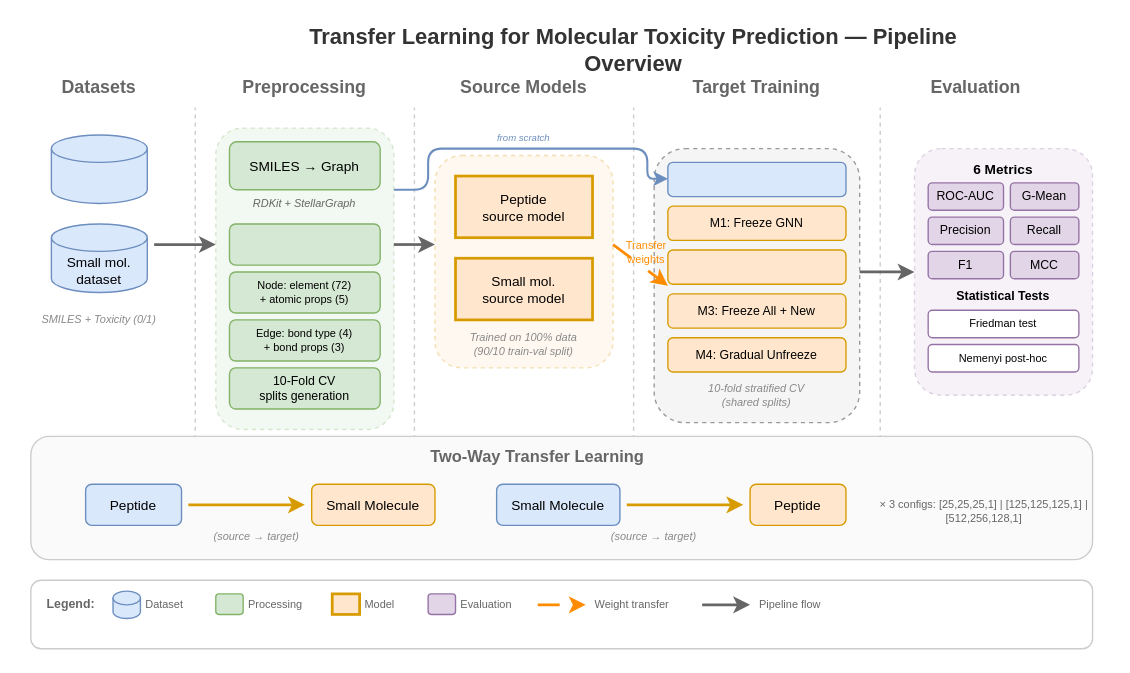
Image size: 1130x673. Some labels were removed from this diagram. Here are the shapes that lost their labels. From the top down, the centre of each, then its label:
At pixel 98 168: "Peptide dataset".
At pixel 756 179: "Baseline (from scratch)".
At pixel 304 244: "One-hot encoding (72-element vocab)".
At pixel 756 266: "M2: Freeze Readout".
